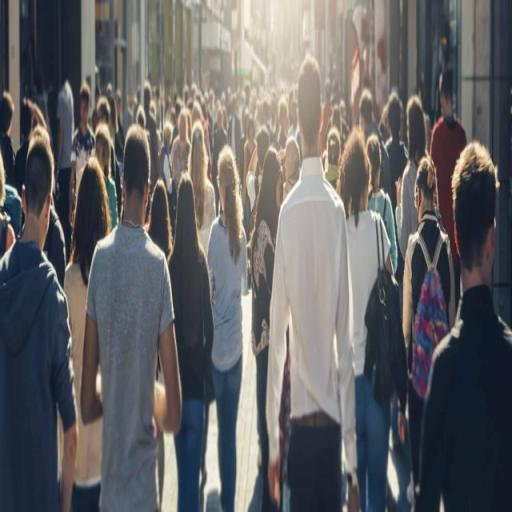person: (268, 58, 360, 512), (82, 128, 182, 512), (425, 138, 512, 512), (4, 127, 80, 512), (341, 150, 399, 512), (63, 154, 113, 512), (404, 159, 455, 506), (167, 177, 214, 512), (210, 146, 248, 512), (253, 146, 283, 512), (435, 72, 470, 315), (396, 101, 444, 268), (55, 50, 78, 250), (368, 139, 399, 279)
